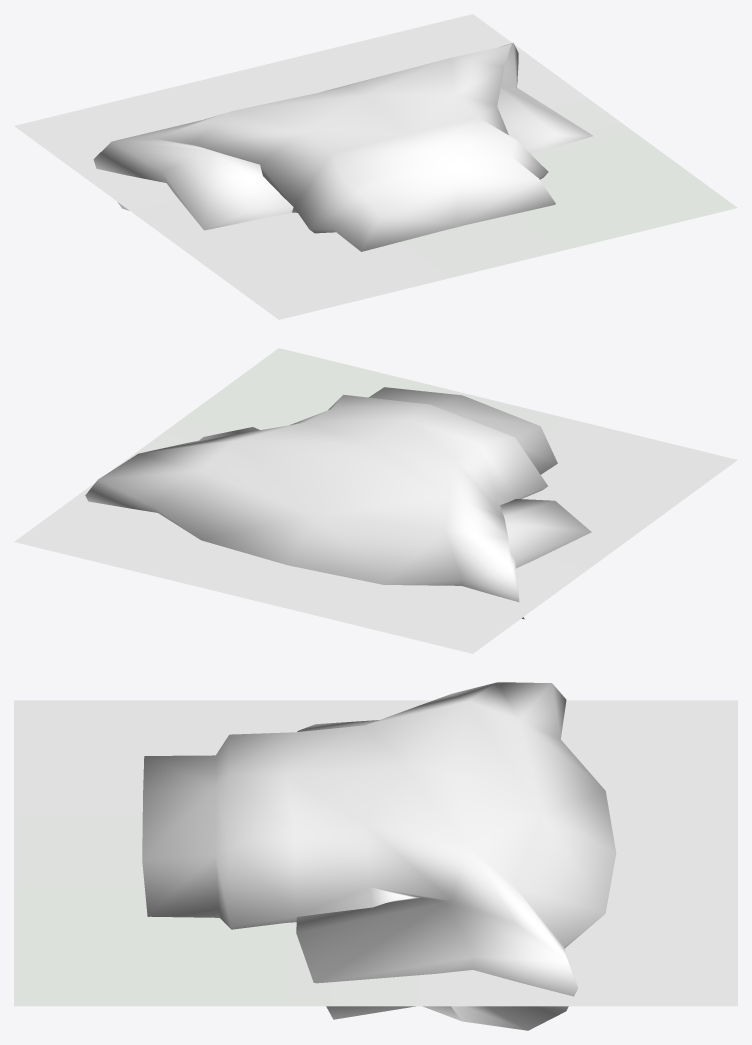
Rendered from ITAR_MIL_L_UGLY_KM.glb.
3 renders of one model, top to bottom at view 1: azimuth 30°, elevation 25°; view 2: azimuth 150°, elevation 25°; view 3: azimuth 270°, elevation 25°, orthographic. The views are drawn at different scales.
Parts seen in each view (by area): view 1: Mesh; view 2: Mesh; view 3: Mesh.
Part boxes in pixels (x1=…): Mesh: x1=14, y1=14, x2=737, y2=319; Mesh: x1=14, y1=348, x2=737, y2=653; Mesh: x1=14, y1=682, x2=737, y2=1030.
Size of the model in its own units: 0.8016 by 0.1913 by 0.8016.
2 materials, 1 textured.
